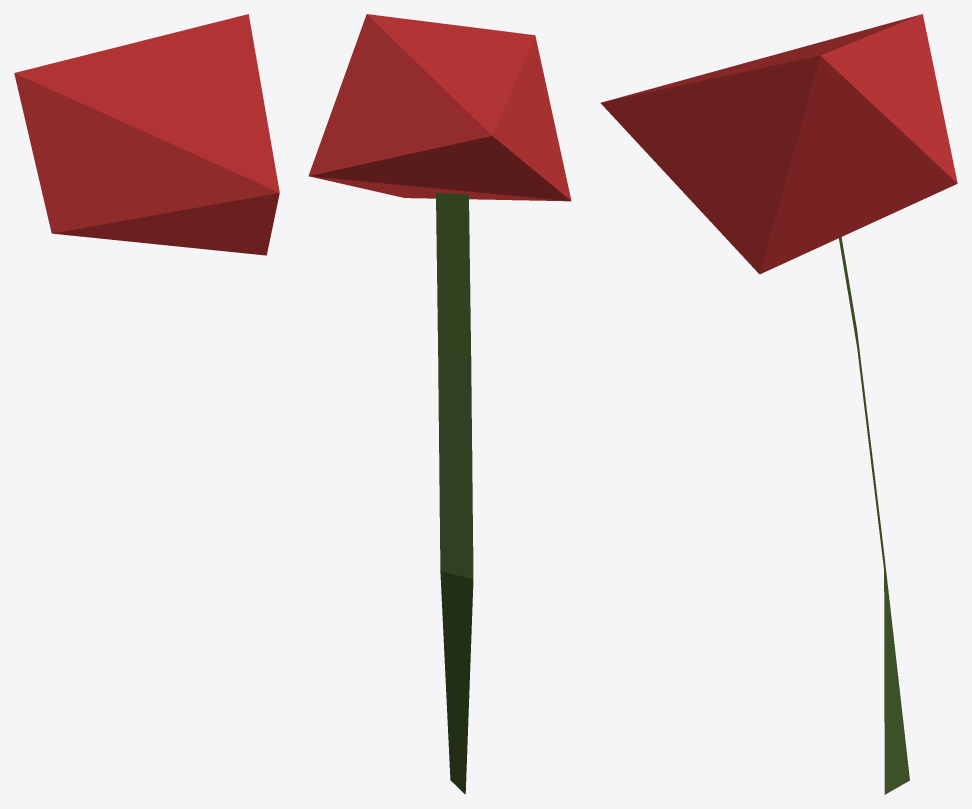
Rendered from Flower_B.glb.
3 renders of one model, left to right at view 1: azimuth 30°, elevation 25°; view 2: azimuth 150°, elevation 25°; view 3: azimuth 270°, elevation 25°, orthographic. The views are drawn at different scales.
Parts seen in each view (by area): view 1: Flower_B_LOD0; view 2: Flower_B_LOD0; view 3: Flower_B_LOD0.
Part boxes in pixels (left/top/right/bottom): Flower_B_LOD0: left=14, top=14, right=279, bottom=255; Flower_B_LOD0: left=308, top=14, right=571, bottom=794; Flower_B_LOD0: left=600, top=14, right=957, bottom=794.
Size of what is drawn, in the model's own units: 0.0838 by 0.2964 by 0.12.
